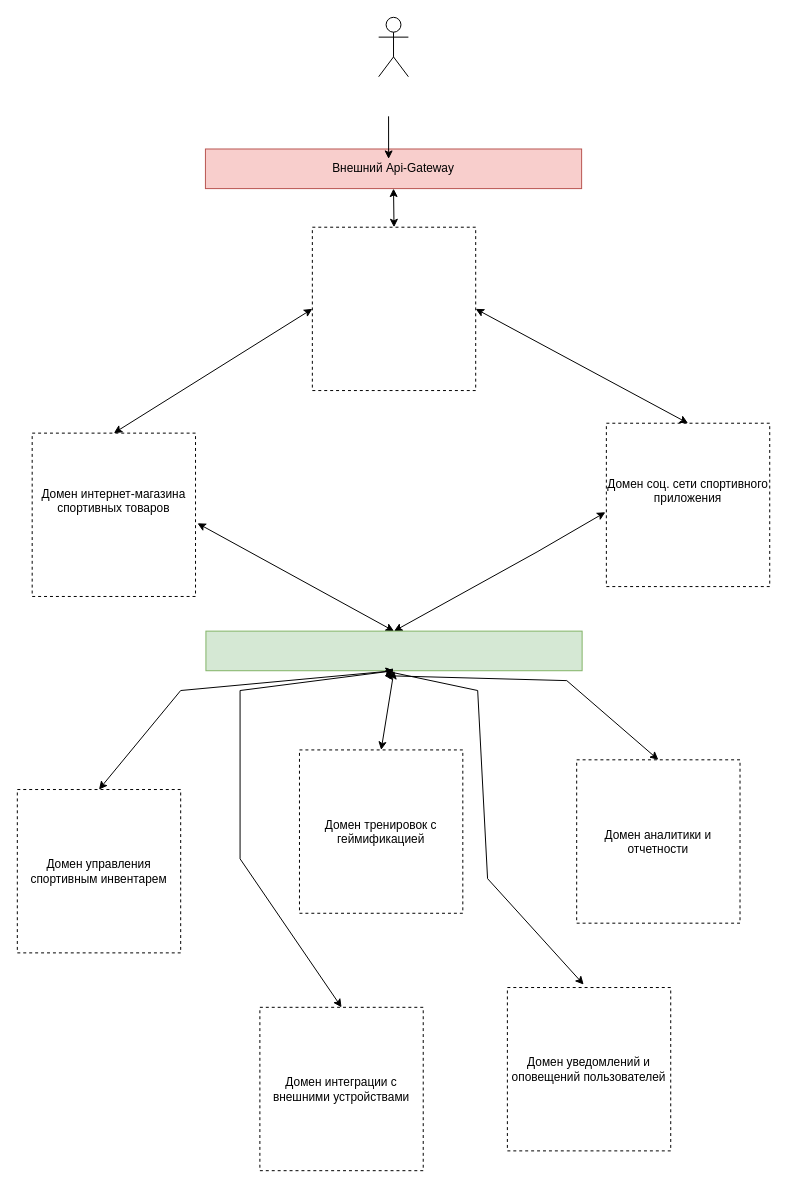
Some shapes in this 787 by 1188 pixel diagram are drawn without their labels. Here are the shapes that lost their labels. From the top down, the centre of each, then its label:
At pixel 393 46: "Front-end (приложение, сайт приложения через браузер)".
At pixel 393 308: "Домен регистрации и авторизации".
At pixel 393 650: "Внутренний Api-Gateway".
